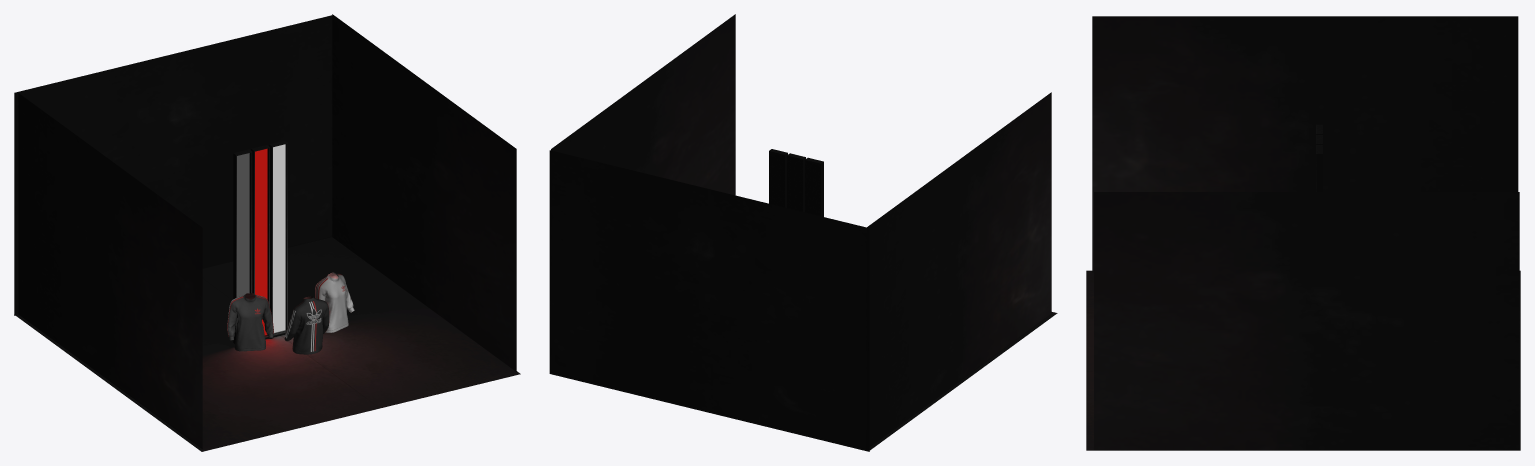
Rendered from Studio.glb.
3 views of the same model, side by side, from view 1: azimuth 30°, elevation 25°; view 2: azimuth 150°, elevation 25°; view 3: azimuth 270°, elevation 25° (orthographic). The views are drawn at different scales.
Parts seen in each view (by area): view 1: Environment, Shirt_Gray, Shirt_Sport, Shirt_White; view 2: Environment; view 3: Environment.
Part boxes in pixels (x1,y1,x2,y2): Environment: (14, 14, 520, 451); Shirt_Gray: (227, 293, 273, 351); Shirt_Sport: (284, 296, 329, 354); Shirt_White: (315, 272, 354, 332); Environment: (549, 14, 1057, 451); Environment: (1086, 16, 1520, 450).
Size of the model in its own units: 4.98 by 3.35 by 5.08.
4 materials, 4 textured.
